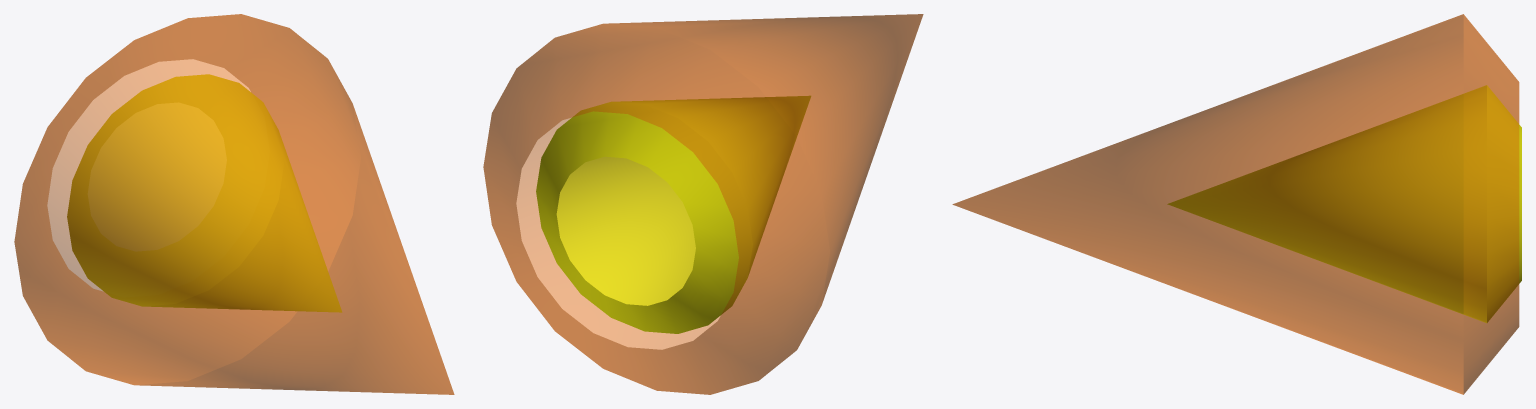
File: RocketFlame.fbx
The picture shows the model from 3 angles, left to right: view 1: azimuth 30°, elevation 25°; view 2: azimuth 150°, elevation 25°; view 3: azimuth 270°, elevation 25°; orthographic projection. The views are drawn at different scales.
Parts seen in each view (by area): view 1: pCone1, pCone2; view 2: pCone1, pCone2; view 3: pCone1, pCone2.
Part boxes in pixels (x1,y1,x2,y2): pCone1: [14, 14, 454, 394]; pCone2: [67, 74, 341, 312]; pCone1: [483, 14, 923, 394]; pCone2: [536, 95, 810, 333]; pCone1: [952, 14, 1519, 394]; pCone2: [1167, 85, 1521, 322].
Bounding box in the file's own units: 5.59 × 5.59 × 8.3.
